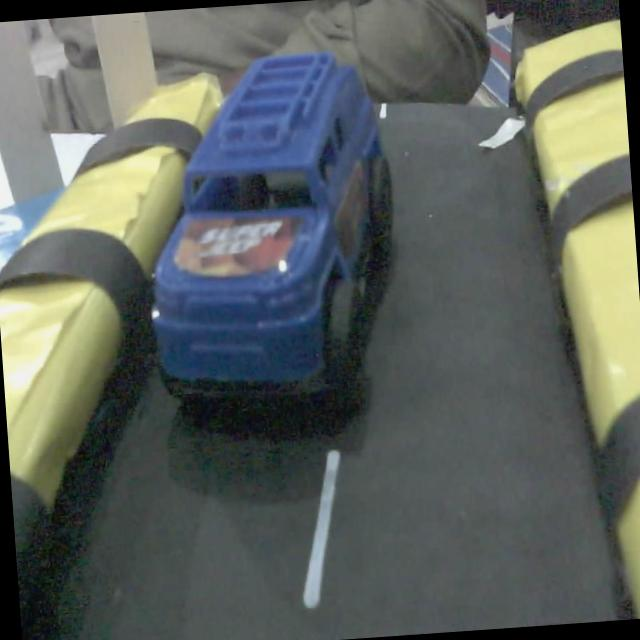OneCar: (157, 54, 396, 417)
